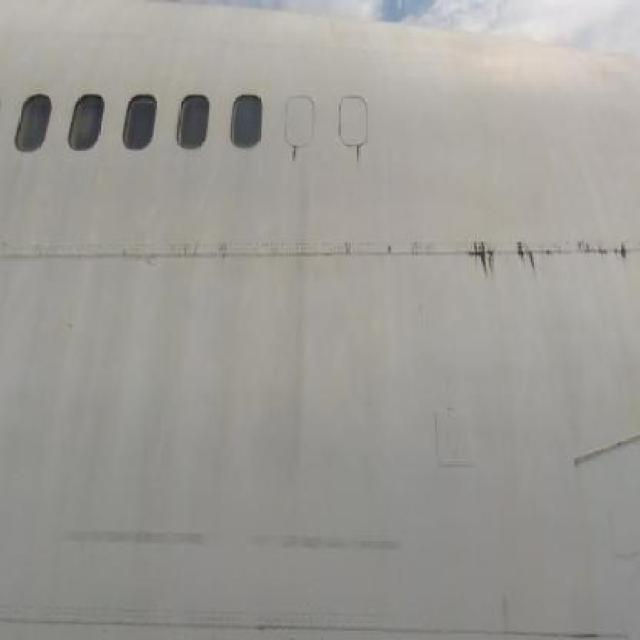Rust: (459, 232, 638, 292), (354, 144, 364, 161), (290, 146, 302, 160)
Scartch: (51, 495, 437, 560)
